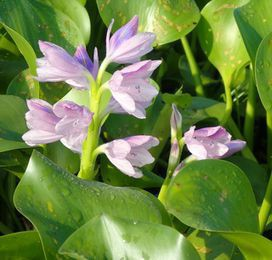water_hyacinth: (0, 0, 272, 260)
